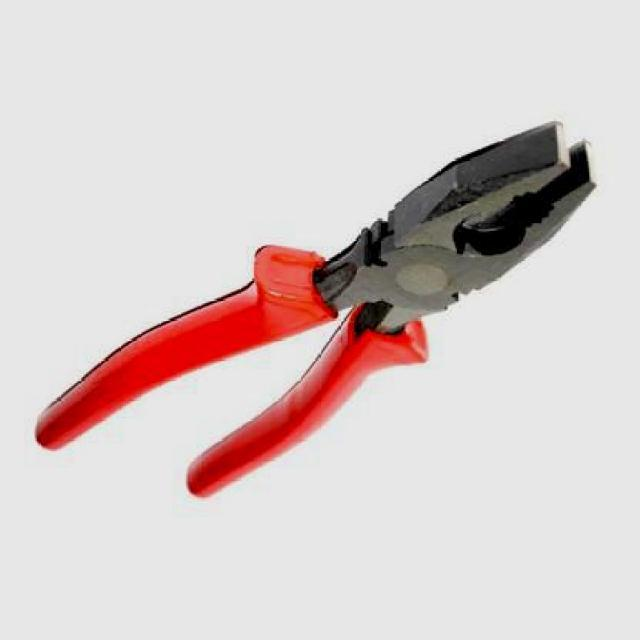pliers: (31, 122, 598, 498)
